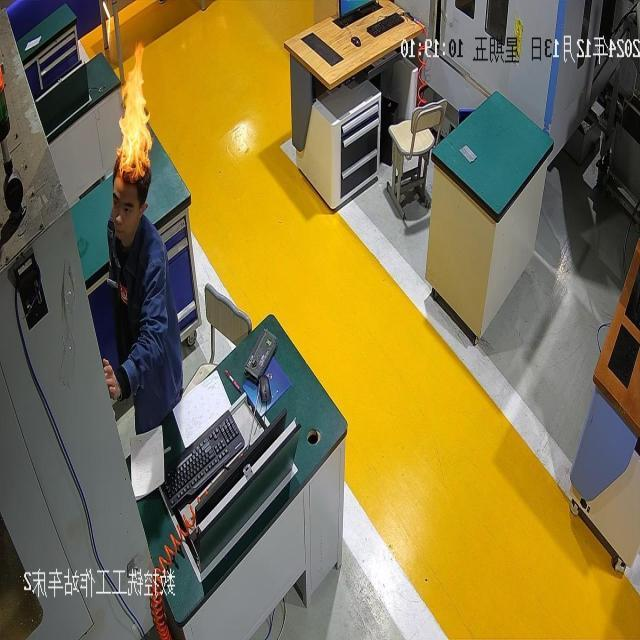smoke: (116, 44, 154, 182)
